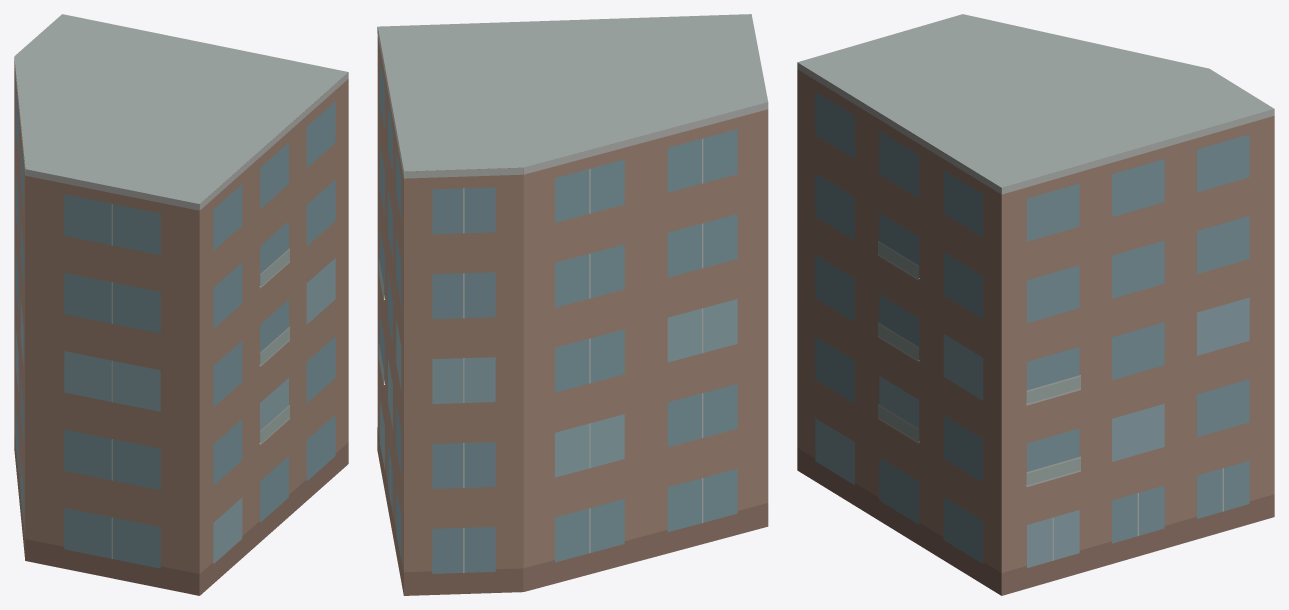
Rendered from survey-upis-32883435.glb.
3 views of the same model, side by side, from view 1: azimuth 30°, elevation 25°; view 2: azimuth 150°, elevation 25°; view 3: azimuth 270°, elevation 25° (orthographic). The views are drawn at different scales.
Parts seen in each view (by area): view 1: survey-upis-32883435.tmp; view 2: survey-upis-32883435.tmp; view 3: survey-upis-32883435.tmp.
Boxes of the visible parts, bbox=[...] form: survey-upis-32883435.tmp: bbox=[14, 14, 348, 595]; survey-upis-32883435.tmp: bbox=[377, 14, 768, 595]; survey-upis-32883435.tmp: bbox=[797, 14, 1274, 595].
Size of the model in its own units: 13.35 by 14.6 by 15.49.
